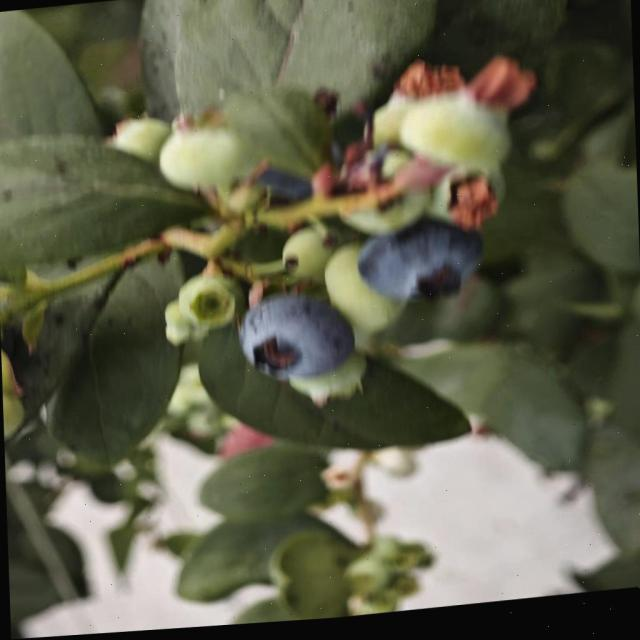RipeBlueBerry: (358, 223, 487, 312), (238, 294, 354, 385)
